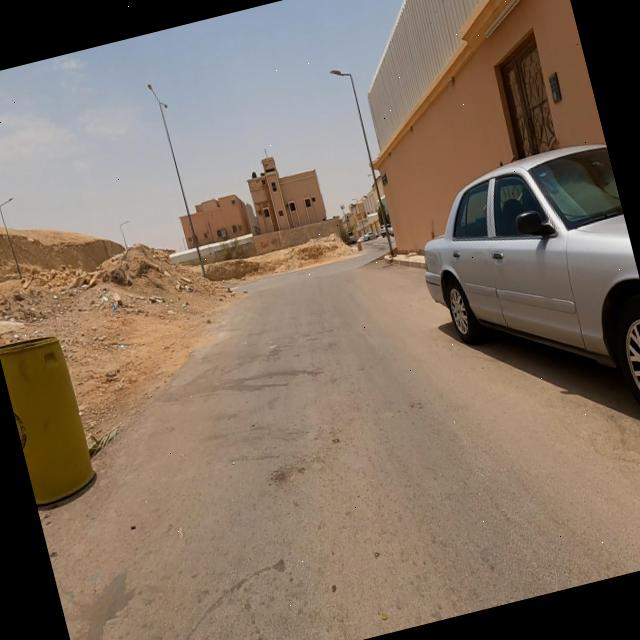Graffiti: (260, 237, 283, 251)
